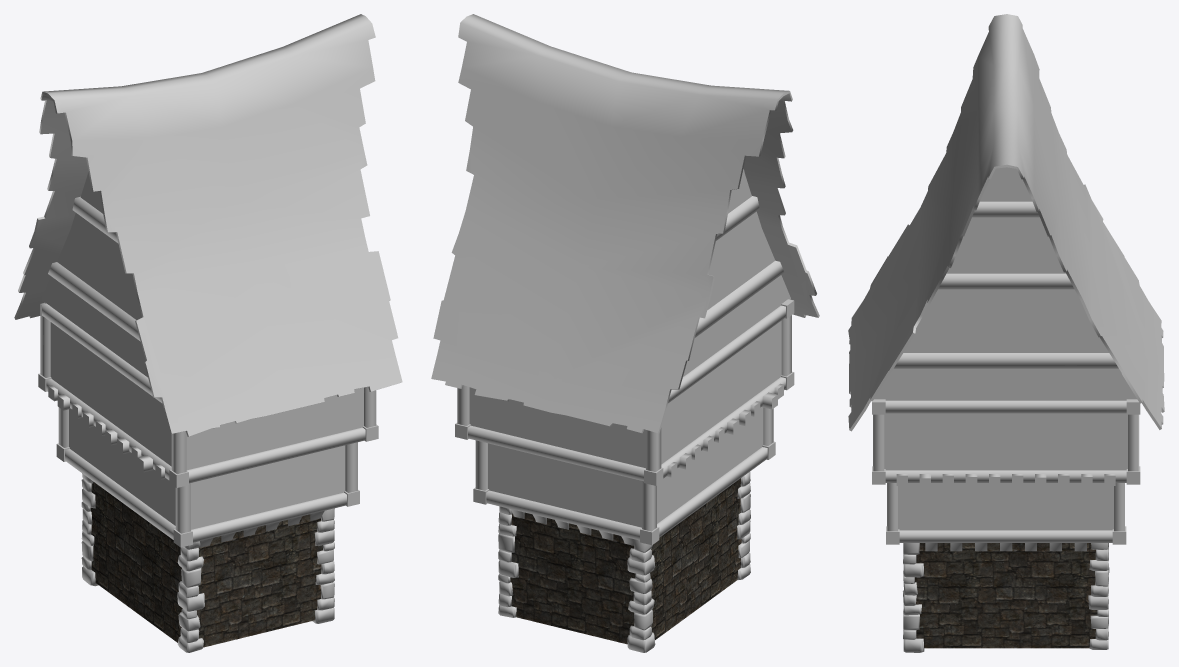
File: build2.fbx
The picture shows the model from 3 angles, left to right: view 1: azimuth 30°, elevation 25°; view 2: azimuth 150°, elevation 25°; view 3: azimuth 270°, elevation 25°; orthographic projection. The views are drawn at different scales.
Visible parts, largest first — view 1: polySurface2061; view 2: polySurface2061; view 3: polySurface2061.
Part boxes in pixels (x1,y1,x2,y2): polySurface2061: (14,14,402,652); polySurface2061: (431,14,819,652); polySurface2061: (848,14,1164,652).
Bounding box in the file's own units: 13.12 × 21.4 × 11.62.
